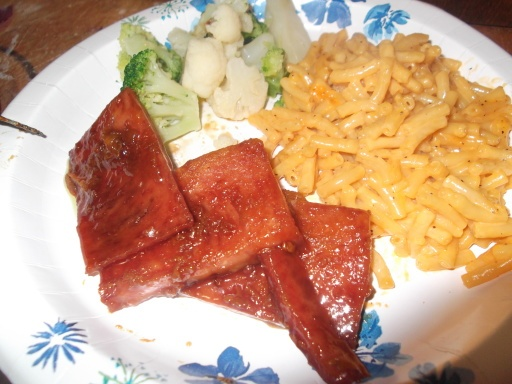background: (51, 0, 409, 230)
